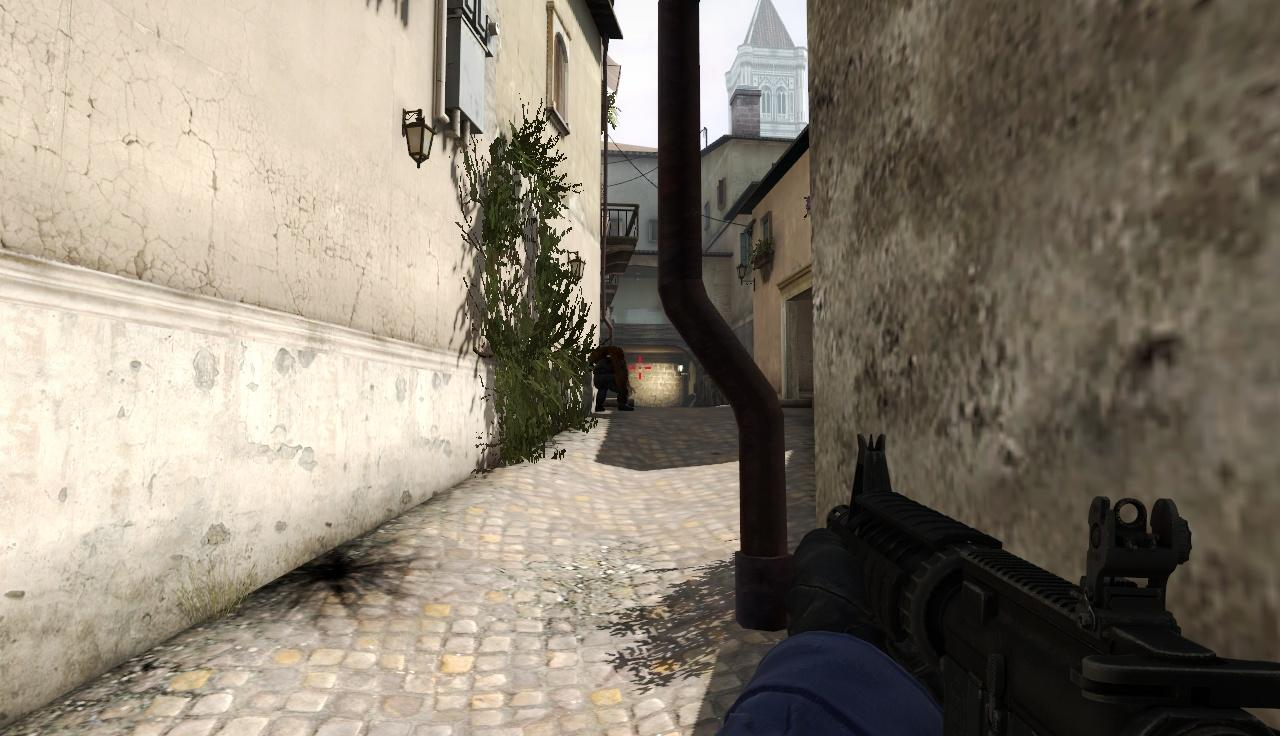ct: (593, 349, 633, 411)
rifle: (819, 431, 1280, 736)
